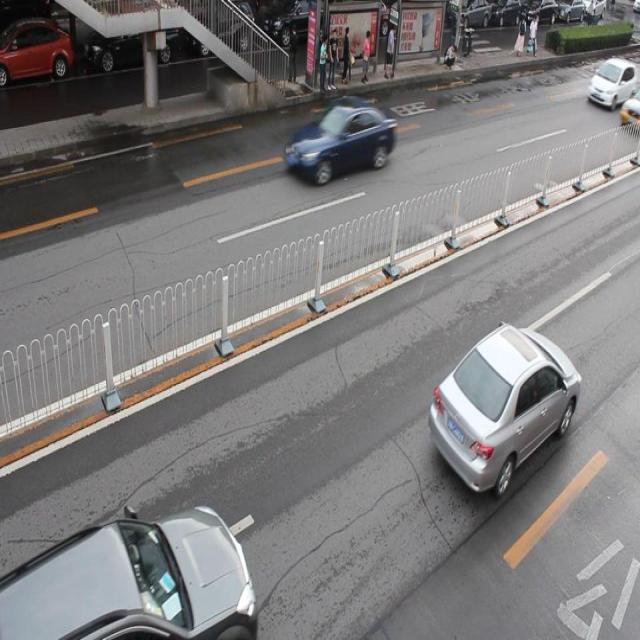car: (1, 506, 256, 640), (428, 319, 580, 492), (286, 98, 395, 180), (82, 11, 177, 72), (1, 17, 73, 84), (185, 1, 254, 52), (260, 1, 329, 50), (586, 59, 640, 107), (618, 90, 640, 134)
